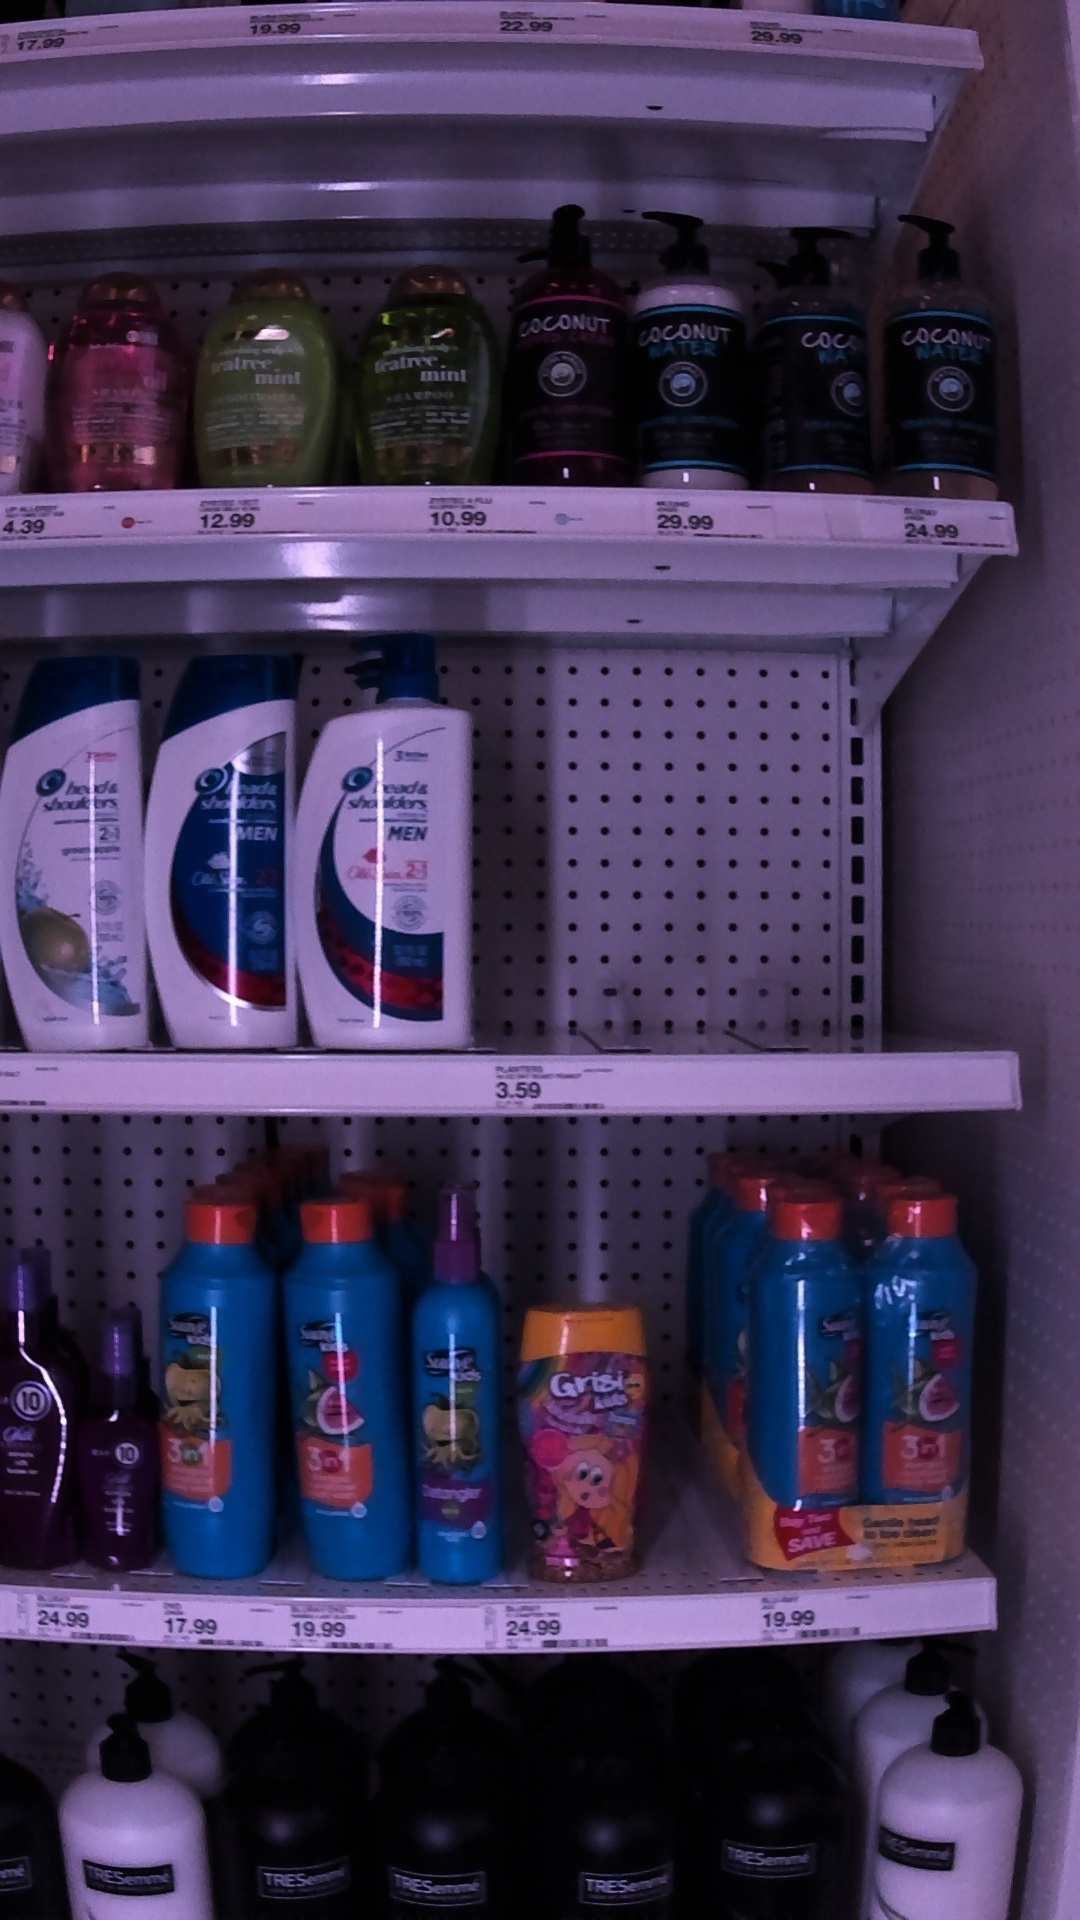ptag: (480, 1054, 622, 1122), (477, 1593, 624, 1658), (278, 1584, 400, 1662), (744, 1584, 878, 1651), (152, 1580, 262, 1660), (889, 495, 1015, 562), (26, 1577, 138, 1651), (642, 489, 769, 551), (1, 9, 127, 70), (738, 9, 860, 69), (415, 489, 545, 545), (191, 487, 289, 549), (491, 1, 611, 46), (231, 4, 349, 46), (1, 497, 75, 549)
